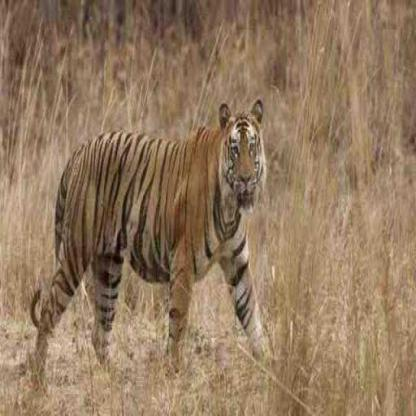Tiger: (19, 78, 275, 408)
